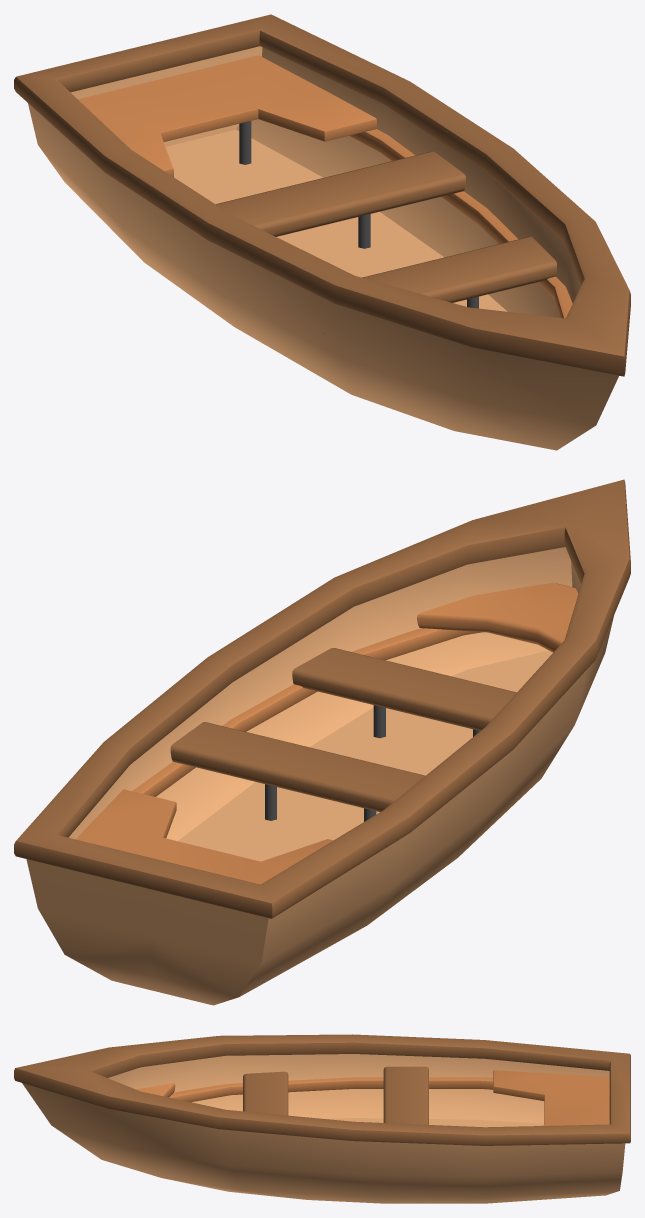
Rendered from Boat_02.fbx.
The picture shows the model from 3 angles, top to bottom: view 1: azimuth 30°, elevation 25°; view 2: azimuth 150°, elevation 25°; view 3: azimuth 270°, elevation 25°; orthographic projection. The views are drawn at different scales.
Visible parts, largest first — view 1: Boat_02; view 2: Boat_02; view 3: Boat_02.
Part boxes in pixels (box(x1,y1,x2,y2)): Boat_02: box(14, 14, 630, 450); Boat_02: box(14, 479, 630, 1005); Boat_02: box(14, 1034, 630, 1203).
Bounding box in the file's own units: 2264 × 1236 × 6139.
